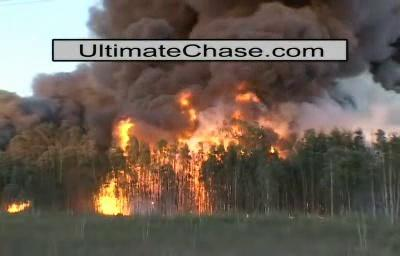fire: (166, 130, 234, 171), (95, 173, 129, 217), (117, 120, 135, 155), (7, 201, 30, 214)
smoke: (0, 62, 400, 131), (85, 0, 400, 39)
